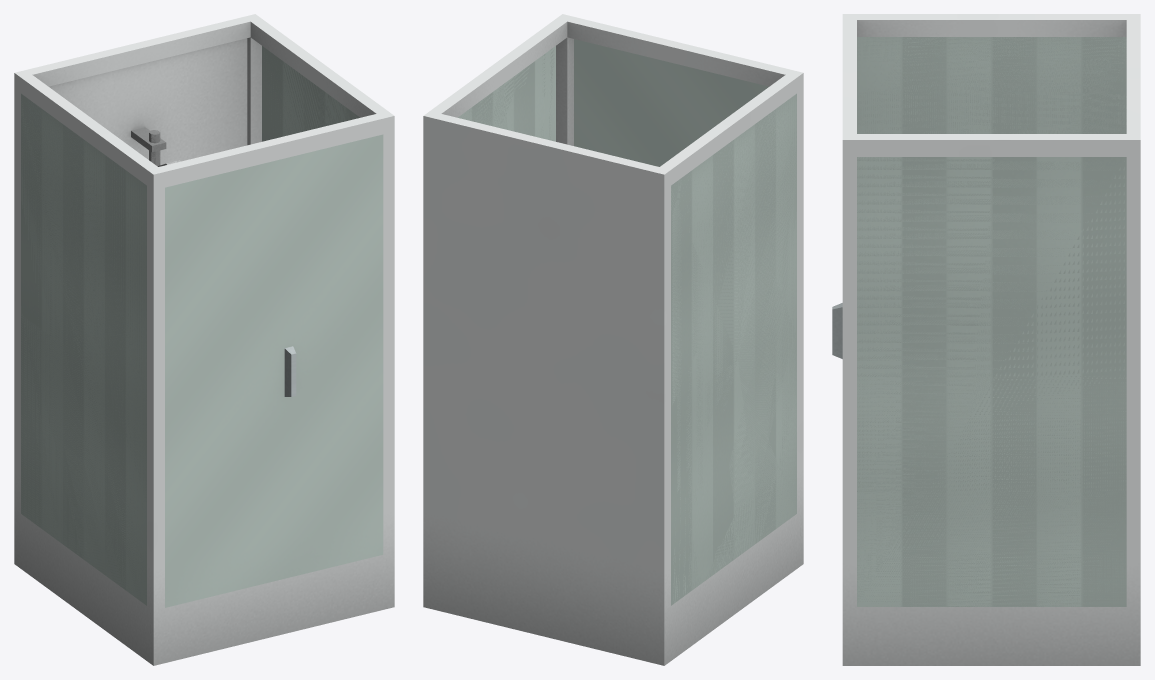
The model's file is shower.glb.
The picture shows the model from 3 angles, left to right: view 1: azimuth 30°, elevation 25°; view 2: azimuth 150°, elevation 25°; view 3: azimuth 270°, elevation 25°; orthographic projection. The views are drawn at different scales.
Visible parts, largest first — view 1: shower; view 2: shower; view 3: shower.
Boxes of the visible parts, bbox=[...] form: shower: bbox=[14, 14, 394, 665]; shower: bbox=[423, 14, 803, 665]; shower: bbox=[832, 14, 1140, 665].
Size of the model in its own units: 0.9077 by 1.77 by 0.94.
Materials: 4 (4 with a texture image).
